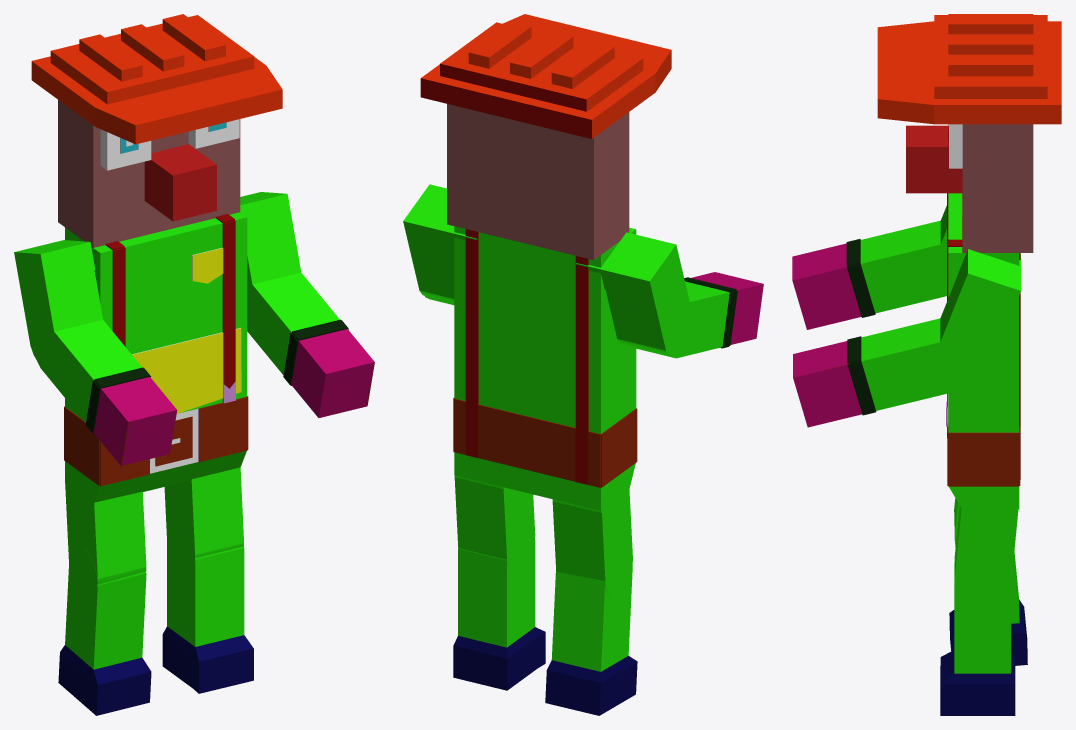
Rendered from MCharacter.fbx.
3 renders of one model, left to right at view 1: azimuth 30°, elevation 25°; view 2: azimuth 150°, elevation 25°; view 3: azimuth 270°, elevation 25°, orthographic.
Parts seen in each view (by area): view 1: Line001, LR, LR001; view 2: Line001, LR; view 3: Line001, LR001, LR.
Part boxes in pixels (bbox=[...]): Line001: bbox=[14, 14, 301, 715]; LR: bbox=[32, 320, 177, 465]; LR001: bbox=[247, 272, 374, 417]; Line001: bbox=[403, 14, 689, 715]; LR: bbox=[624, 272, 763, 358]; Line001: bbox=[877, 14, 1061, 715]; LR001: bbox=[793, 318, 984, 427]; LR: bbox=[792, 220, 946, 329].
Size of the model in its own units: 1019 by 2502 by 951.
